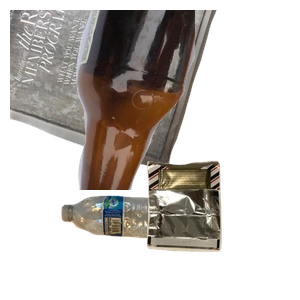glass: (60, 10, 300, 190)
paper: (10, 10, 222, 176)
plastic: (59, 193, 241, 300)
trash: (144, 158, 300, 300)
